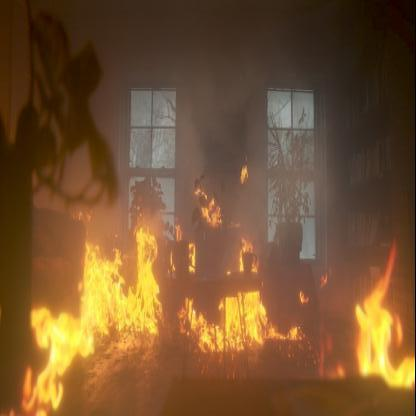fire: (0, 229, 164, 416), (180, 237, 304, 353), (343, 245, 416, 395)
smoke: (2, 0, 416, 309)
